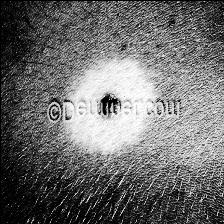Potentially Malignant Skin Tumors: (70, 58, 153, 148)
